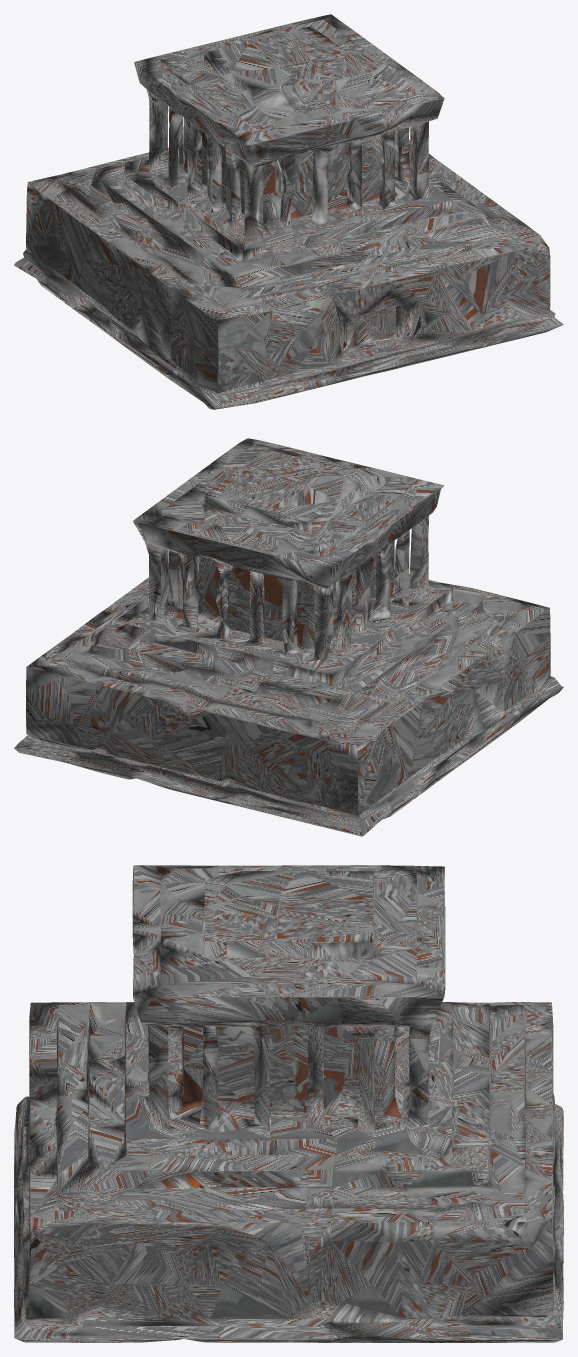
Rendered from lang-bac.glb.
3 views of the same model, one above another, from view 1: azimuth 30°, elevation 25°; view 2: azimuth 150°, elevation 25°; view 3: azimuth 270°, elevation 25° (orthographic). The views are drawn at different scales.
Size of the model in its own units: 0.9995 by 0.6431 by 0.9999.
1 material, 1 textured.
